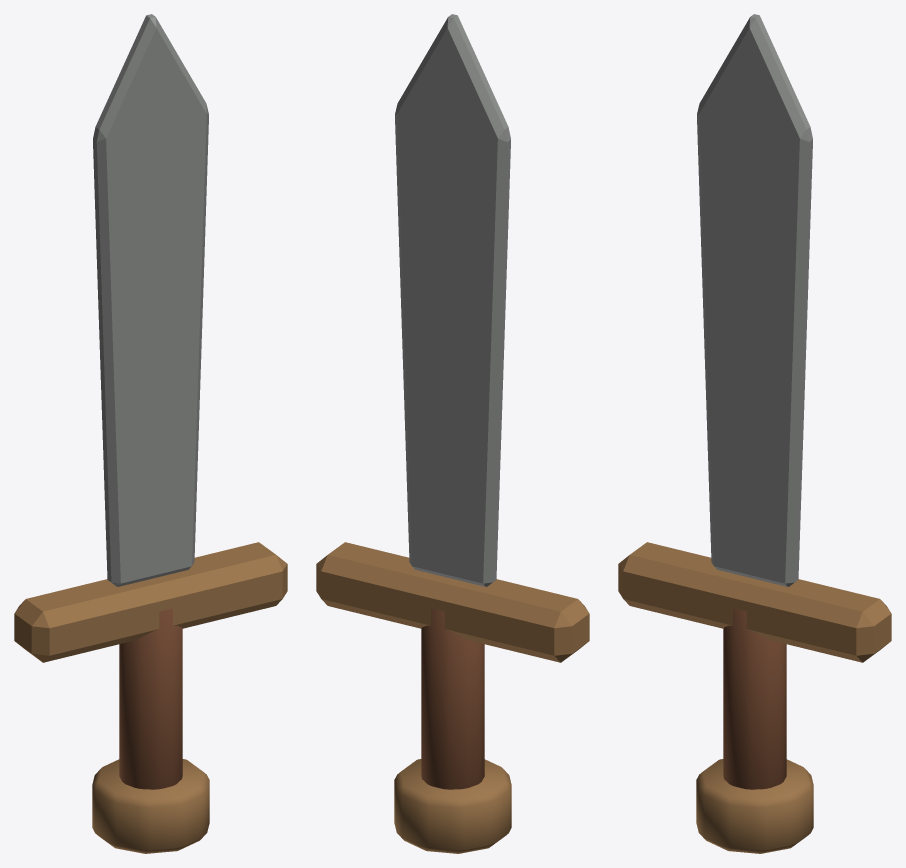
Rendered from weapon_sword.glb.
3 views of the same model, side by side, from view 1: azimuth 30°, elevation 25°; view 2: azimuth 150°, elevation 25°; view 3: azimuth 330°, elevation 25° (orthographic).
Visible parts, largest first — view 1: WEAPON_SWORD__blade, WEAPON_SWORD__hilt, WEAPON_SWORD__grip, WEAPON_SWORD__pommel; view 2: WEAPON_SWORD__blade, WEAPON_SWORD__hilt, WEAPON_SWORD__grip, WEAPON_SWORD__pommel; view 3: WEAPON_SWORD__blade, WEAPON_SWORD__hilt, WEAPON_SWORD__grip, WEAPON_SWORD__pommel.
Part boxes in pixels (left/top/right/bottom): WEAPON_SWORD__blade: left=93, top=14, right=208, bottom=586; WEAPON_SWORD__hilt: left=14, top=542, right=287, bottom=662; WEAPON_SWORD__grip: left=119, top=608, right=182, bottom=789; WEAPON_SWORD__pommel: left=92, top=759, right=209, bottom=853; WEAPON_SWORD__blade: left=395, top=14, right=510, bottom=586; WEAPON_SWORD__hilt: left=316, top=542, right=589, bottom=662; WEAPON_SWORD__grip: left=421, top=608, right=484, bottom=789; WEAPON_SWORD__pommel: left=394, top=759, right=511, bottom=853; WEAPON_SWORD__blade: left=697, top=14, right=812, bottom=586; WEAPON_SWORD__hilt: left=618, top=542, right=891, bottom=662; WEAPON_SWORD__grip: left=723, top=608, right=786, bottom=789; WEAPON_SWORD__pommel: left=696, top=759, right=813, bottom=853.
Bounding box in the file's own units: 0.425 × 1.29 × 0.1688.
